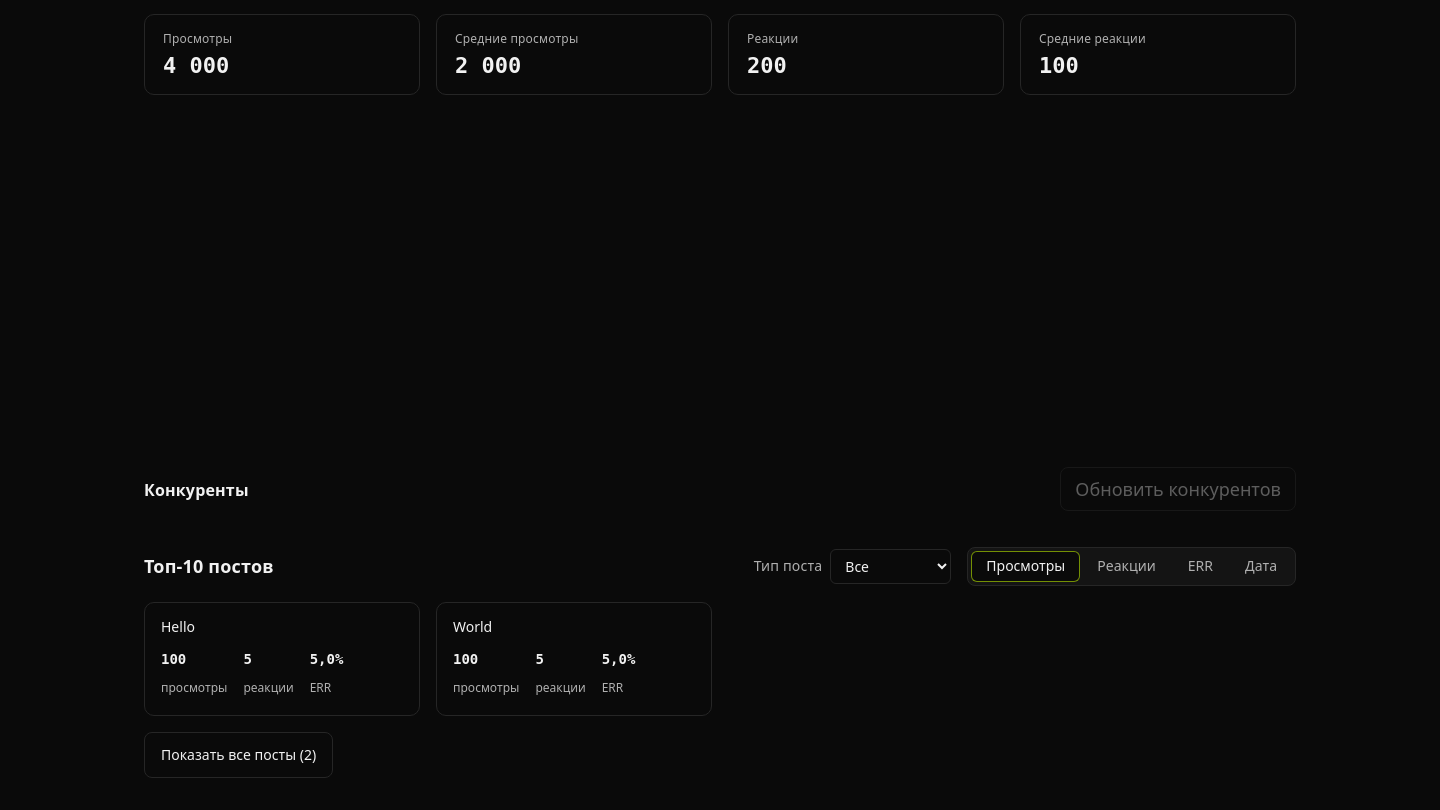
Test: AccountDetailPage › shows comments, but not shares or reach, in the full list of an Instagram competitor
This screenshot has width=1440, height=810.
(page scrolled)
Click the button "Показать все посты (2)". click: point(239, 755)
box: 144,732 -> 333,778
(page scrolled)
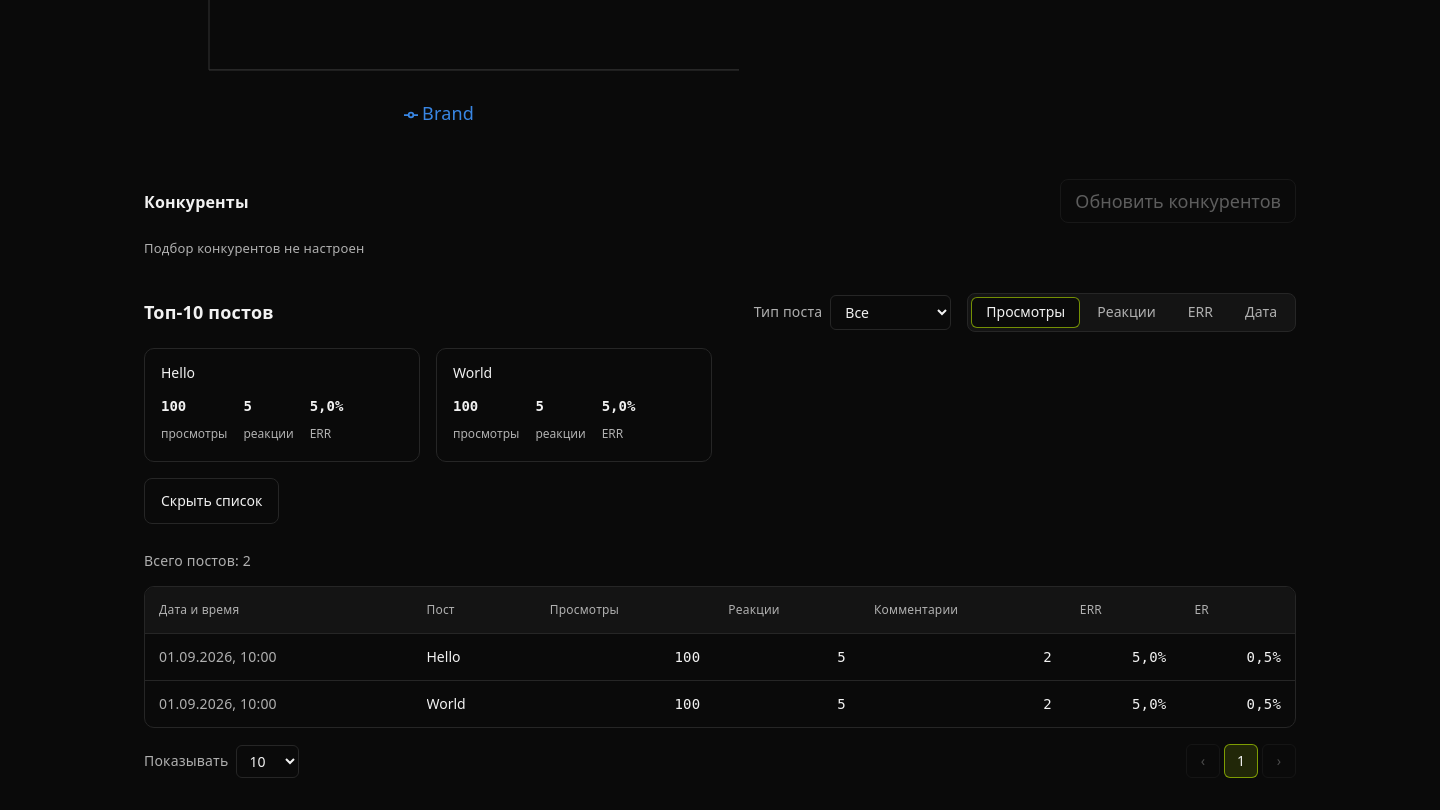
expect the text "Всего постов: 2" is shown: met, box 144,551 -> 251,570
expect the column heading "Комментарии" is shown: met, box 860,587 -> 1066,634
